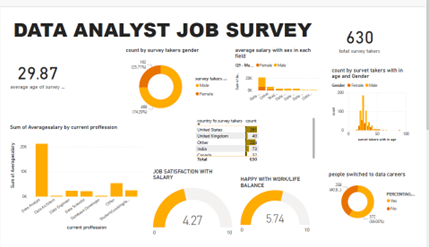

The page's visual inventory and layout, read from the dashboard file:
{"tool":"powerbi","page":{"name":"Page 1","canvas":[1280,720],"ordinal":0},"visuals":[{"type":"textbox","box":[10.1,0,969.2,100.8],"z":0},{"type":"card","fields":{"Values":["CountNonNull(Data Professional Survey.Unique ID)"]},"box":[1005.3,0,184.2,150],"z":1000},{"type":"donutChart","fields":{"Y":["Data Professional Survey.count"],"Category":["Data Professional Survey.Q9 - Male/Female?"]},"box":[361.8,101.3,330.3,230.3],"z":2000},{"type":"columnChart","fields":{"Category":["Data Professional Survey.Q1 - Which Title Best Fits your Current Role?.1","Data Professional Survey.Q9 - Male/Female?"],"Y":["Sum(Data Professional Survey.Averagesalary)"]},"box":[0,342.3,427.3,336.2],"z":3000},{"type":"clusteredColumnChart","fields":{"Y":["Data Professional Survey.count"],"Category":["Data Professional Survey.Q10 - Current Age (bins)"],"Series":["Data Professional Survey.Q9 - Male/Female?"]},"box":[1005.3,164.5,251.3,236.8],"z":4000},{"type":"tableEx","fields":{"Values":["Data Professional Survey.Q11 - Which Country do you live in?.1","Data Professional Survey.count"]},"box":[578.9,317.1,384.2,150],"z":5000},{"type":"donutChart","title":"people switched to data careers","fields":{"Y":["Data Professional Survey.count"],"Category":["Data Professional Survey.Q2 - Did you switch careers into Data?"]},"box":[996.1,489.5,284.2,173.7],"z":6000},{"type":"card","fields":{"Values":["Avg(Data Professional Survey.Q10 - Current Age)"]},"box":[0,127.6,182.9,119.7],"z":7000},{"type":"gauge","title":"JOB SATISFACTION WITH SALARY","fields":{"Y":["Avg(Data Professional Survey.Q6 - How Happy are you in your Current Position with the following? (Salary))"],"MinValue":["Min(Data Professional Survey.Q6 - How Happy are you in your Current Position with the following? (Salary))"],"MaxValue":["Max(Data Professional Survey.Q6 - How Happy are you in your Current Position with the following? (Salary))"]},"box":[447.4,480.3,256.6,239.5],"z":8000},{"type":"gauge","title":"HAPPY WITH WORK/LIFE BALANCE","fields":{"Y":["Avg(Data Professional Survey.Q6 - How Happy are you in your Current Position with the following? (Work/Life Balance))"],"MinValue":["Min(Data Professional Survey.Q6 - How Happy are you in your Current Position with the following? (Work/Life Balance))"],"MaxValue":["Max(Data Professional Survey.Q6 - How Happy are you in your Current Position with the following? (Work/Life Balance))1"]},"box":[719.7,505.3,226.3,189.5],"z":9000},{"type":"columnChart","title":"average salary with sex in each field","fields":{"Category":["Data Professional Survey.Q1 - Which Title Best Fits your Current Role?.1"],"Y":["Sum(Data Professional Survey.Averagesalary)"],"Series":["Data Professional Survey.Q9 - Male/Female?"]},"box":[703.9,101.3,276.3,181.6],"z":10000}]}

Visuals, with their boxes in screenshot pixels (x1, y1, x2, y2), scaled from the page's 1280x720 canvas onto the 429x247 screenshot:
textbox: {"x1": 3, "y1": 0, "x2": 328, "y2": 35}
card - CountNonNull(Data Professional Survey.Unique ID): {"x1": 337, "y1": 0, "x2": 399, "y2": 51}
donutChart - Data Professional Survey.count x Data Professional Survey.Q9 - Male/Female?: {"x1": 121, "y1": 35, "x2": 232, "y2": 114}
columnChart - Data Professional Survey.Q1 - Which Title Best Fits your Current Role?.1 x Data Professional Survey.Q9 - Male/Female?: {"x1": 0, "y1": 117, "x2": 143, "y2": 233}
clusteredColumnChart - Data Professional Survey.count x Data Professional Survey.Q10 - Current Age (bins): {"x1": 337, "y1": 56, "x2": 421, "y2": 138}
tableEx - Data Professional Survey.Q11 - Which Country do you live in?.1 x Data Professional Survey.count: {"x1": 194, "y1": 109, "x2": 323, "y2": 160}
"people switched to data careers" donutChart: {"x1": 334, "y1": 168, "x2": 428, "y2": 228}
card - Avg(Data Professional Survey.Q10 - Current Age): {"x1": 0, "y1": 44, "x2": 61, "y2": 85}
"JOB SATISFACTION WITH SALARY" gauge: {"x1": 150, "y1": 165, "x2": 236, "y2": 246}
"HAPPY WITH WORK/LIFE BALANCE" gauge: {"x1": 241, "y1": 173, "x2": 317, "y2": 238}
"average salary with sex in each field" columnChart: {"x1": 236, "y1": 35, "x2": 329, "y2": 97}
